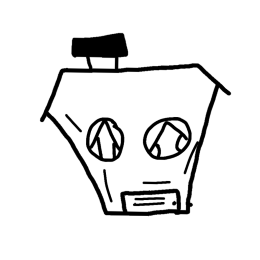chimney: (68, 29, 135, 74)
door: (112, 185, 186, 222)
open_window: (138, 112, 193, 170), (83, 114, 129, 172)
single_line_roof: (28, 58, 237, 119)
wall: (46, 111, 211, 224)
